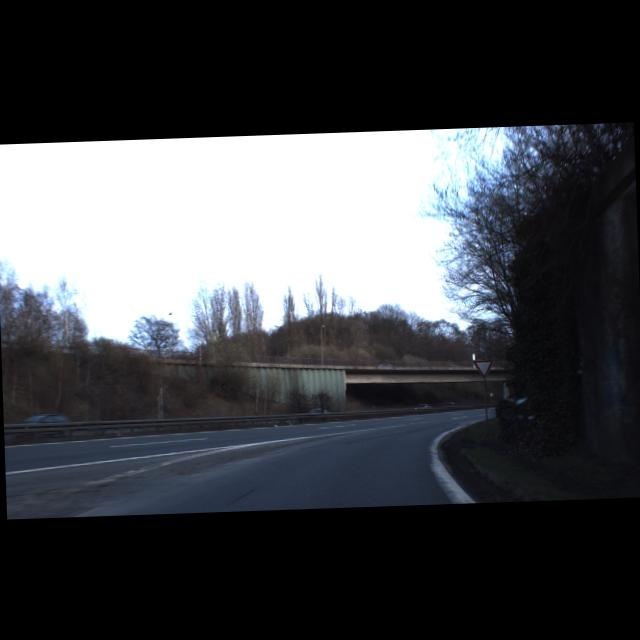other: (471, 358, 495, 379)
